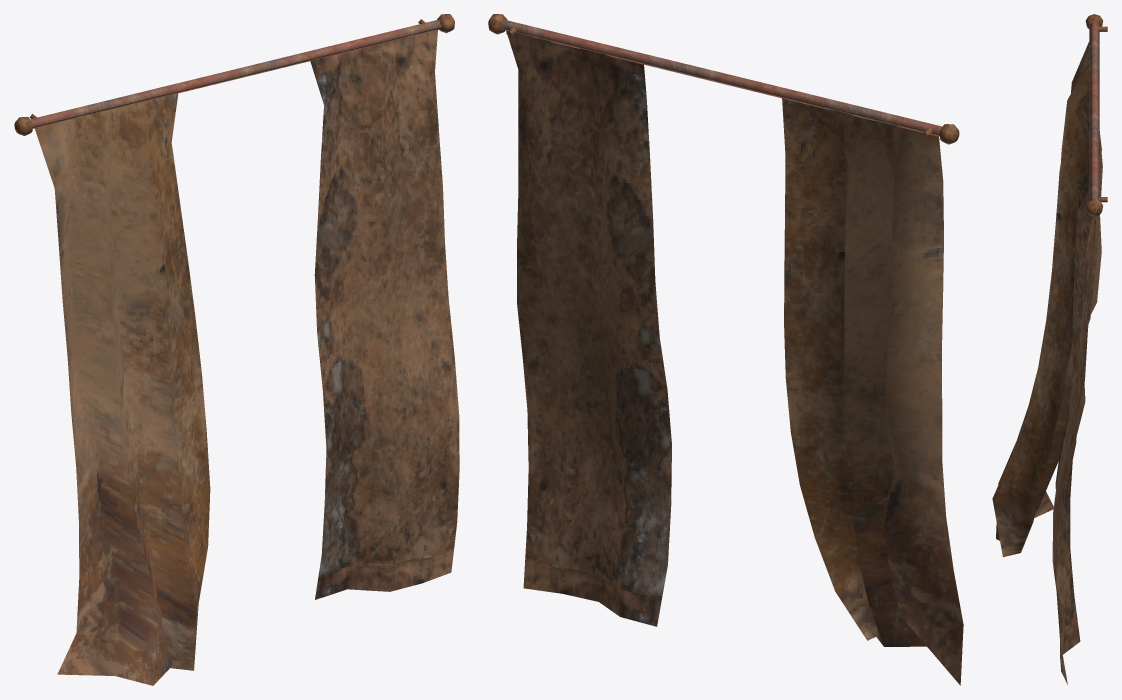
The model's file is _Curtains_1.FBX.
The picture shows the model from 3 angles, left to right: view 1: azimuth 30°, elevation 25°; view 2: azimuth 150°, elevation 25°; view 3: azimuth 270°, elevation 25°; orthographic projection. The views are drawn at different scales.
Parts seen in each view (by area): view 1: _Curtains_1; view 2: _Curtains_1; view 3: _Curtains_1.
Part boxes in pixels (x1,y1,x2,y2): _Curtains_1: (14,14,459,685); _Curtains_1: (488,14,963,685); _Curtains_1: (992,14,1107,684).
Bounding box in the file's own units: 213 × 253 × 53.68.
Materials: 4 (4 with a texture image).
